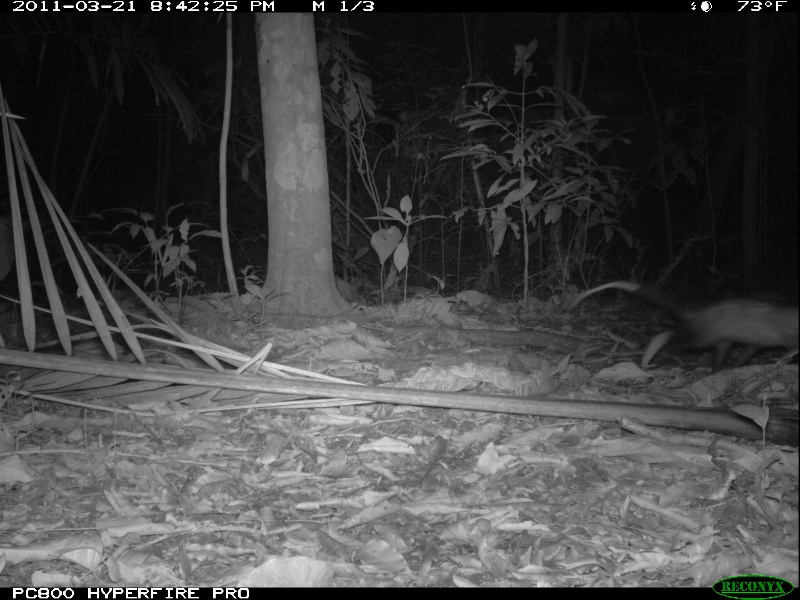opossum: (579, 274, 800, 371)
